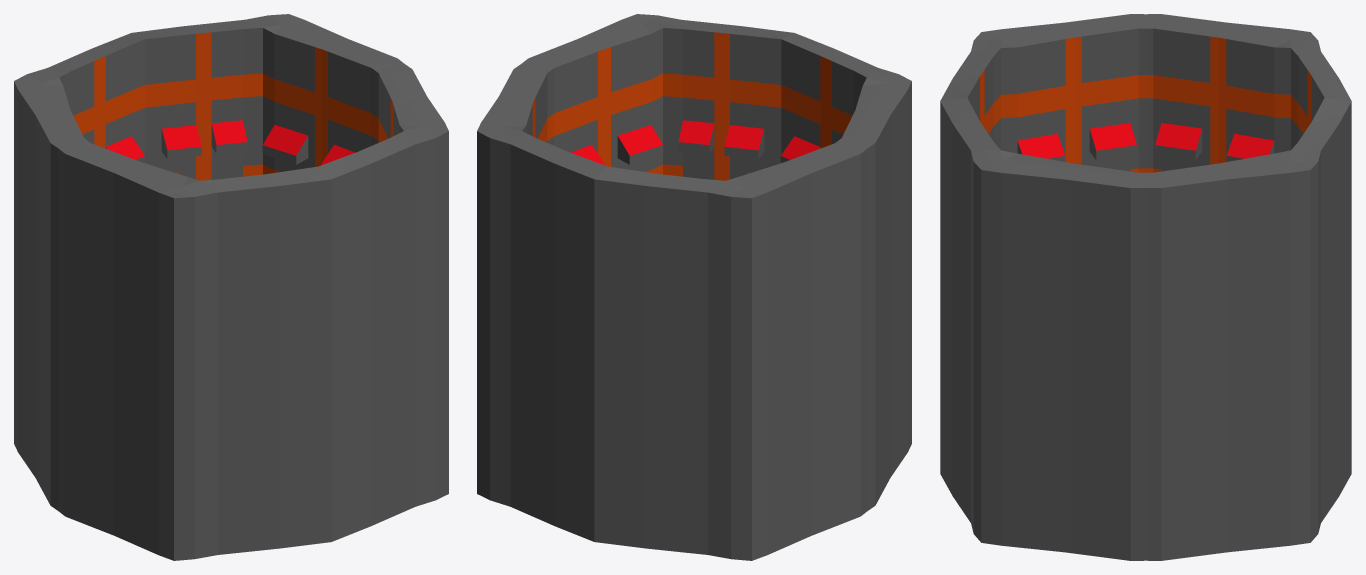
Rendered from arena.glb.
3 renders of one model, left to right at view 1: azimuth 30°, elevation 25°; view 2: azimuth 150°, elevation 25°; view 3: azimuth 270°, elevation 25°, orthographic. The views are drawn at different scales.
Parts seen in each view (by area): view 1: Cube; view 2: Cube; view 3: Cube.
Part boxes in pixels (x1,y1,x2,y2): Cube: (14, 14, 448, 560); Cube: (477, 14, 911, 560); Cube: (940, 14, 1351, 560).
Size of the model in its own units: 20.03 by 20.18 by 20.
